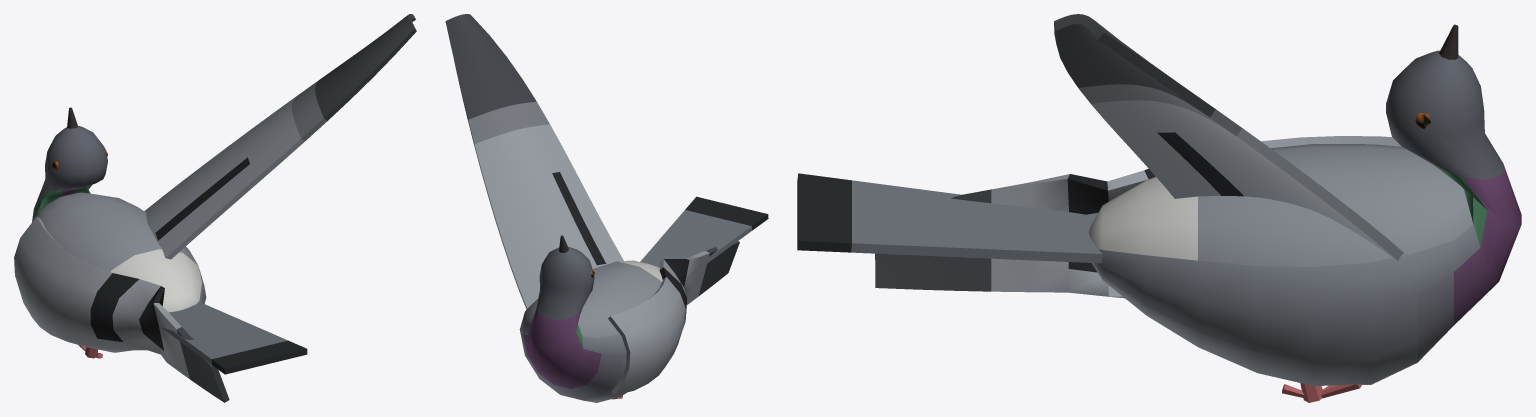
The model's file is pigeon_held.glb.
3 views of the same model, side by side, from view 1: azimuth 30°, elevation 25°; view 2: azimuth 150°, elevation 25°; view 3: azimuth 270°, elevation 25° (orthographic). The views are drawn at different scales.
Visible parts, largest first — view 1: pigeon_held; view 2: pigeon_held; view 3: pigeon_held.
Boxes of the visible parts, <box> form: pigeon_held: <box>14,14,416,402</box>; pigeon_held: <box>445,14,768,402</box>; pigeon_held: <box>797,14,1521,402</box>.
Bounding box in the file's own units: 0.238 × 0.2368 × 0.2805.
